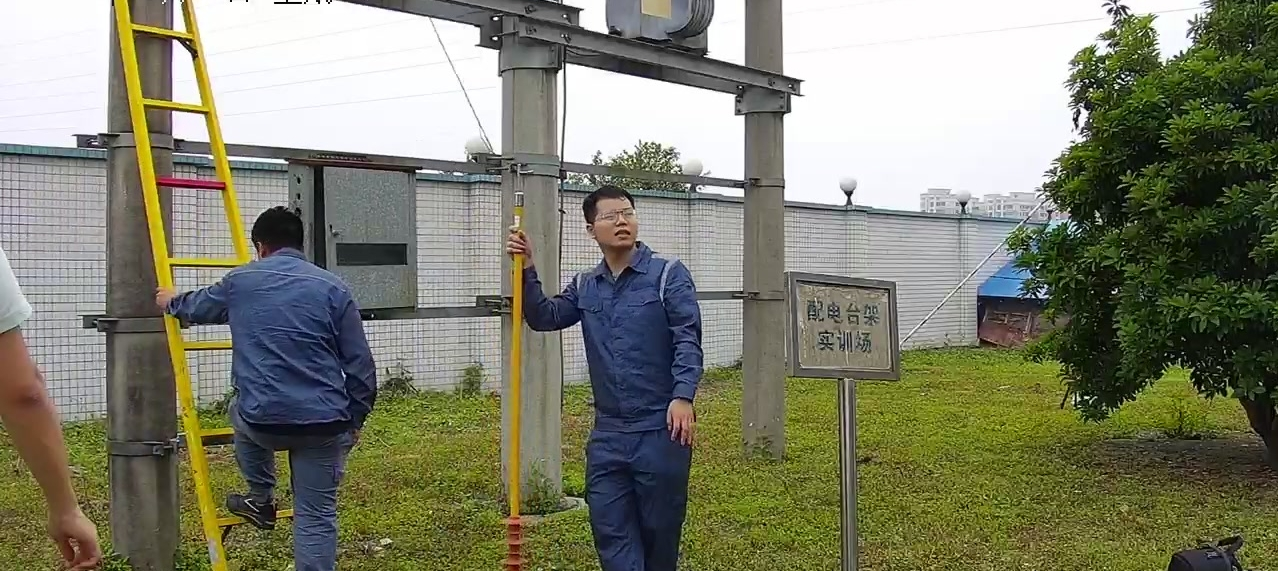安全帽、安全绳均未佩戴的工作人员: (152, 203, 380, 571)
未带安全帽的工作人员: (504, 181, 706, 571)
